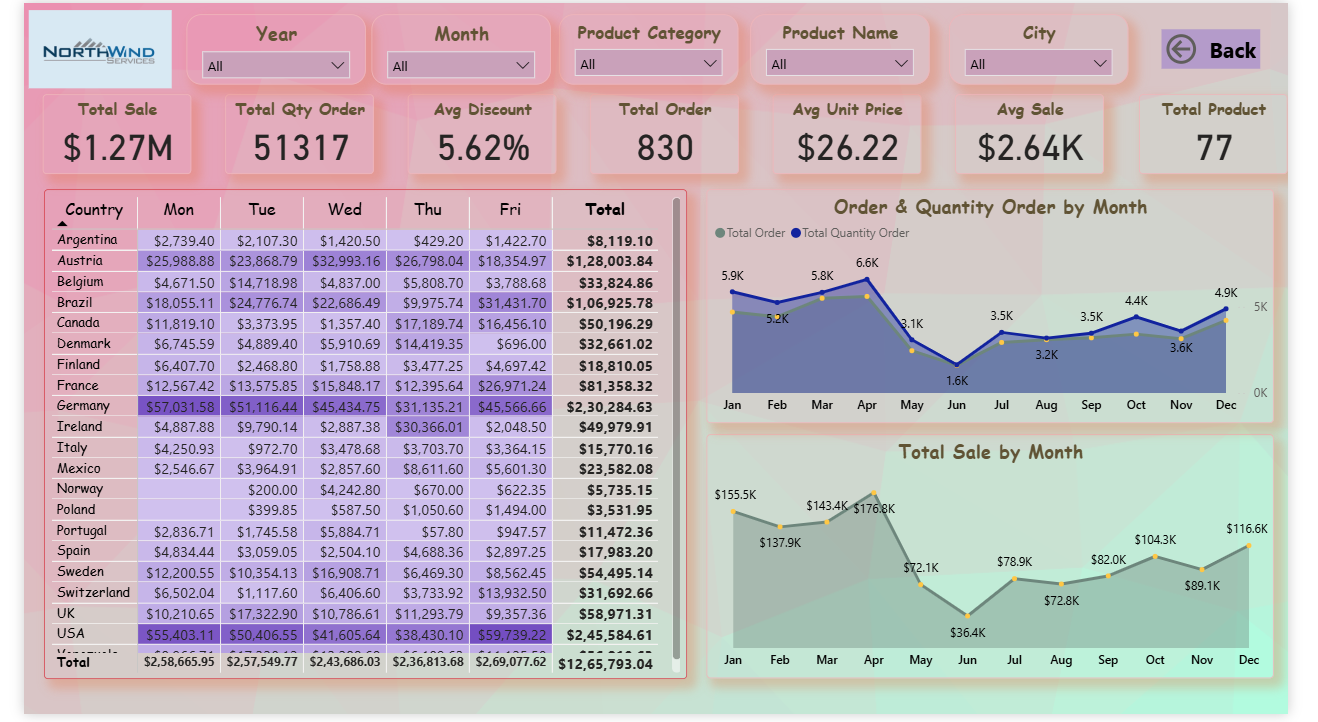

The dashboard page shown, as its layout file describes it:
{"tool":"powerbi","page":{"name":"Sales Overview","canvas":[1280,720],"ordinal":1},"visuals":[{"type":"card","title":"Total Sale","fields":{"Values":["All Measures.Total Sale"]},"box":[18.6,92.4,150,81],"z":0},{"type":"card","title":"Total Qty Order","fields":{"Values":["All Measures.Total Quantity Order"]},"box":[203.6,92.4,150,81],"z":1000},{"type":"card","title":"Total Order","fields":{"Values":["All Measures.Total Order"]},"box":[573.6,92.4,150,81],"z":2000},{"type":"card","title":"Avg Discount","fields":{"Values":["All Measures.Avg Discount"]},"box":[388.6,92.4,150,81],"z":3000},{"type":"card","title":"Avg Unit Price","fields":{"Values":["All Measures.Avg Unit Price"]},"box":[758.6,92.4,150,81],"z":4000},{"type":"areaChart","title":"Total Sale by Month ","fields":{"Category":["orders.Month Name"],"Y":["All Measures.Total Sale"]},"box":[691.4,437.1,574.3,247.1],"z":5000},{"type":"pivotTable","fields":{"Values":["All Measures.Total Sale"],"Rows":["customers.country"],"Columns":["orders.Day Name"]},"box":[20,188.6,651.4,495.7],"z":6000},{"type":"areaChart","title":"Order & Quantity Order by Month","fields":{"Y":["All Measures.Total Order"],"Category":["orders.Month Name"],"Y2":["All Measures.Total Quantity Order"]},"box":[691.4,188.6,574.3,237.1],"z":7000},{"type":"slicer","title":"Year","fields":{"Values":["orders.Order_Year"]},"box":[164.3,11.4,181.4,71.4],"z":8000},{"type":"image","box":[0,0,154.3,92.9],"z":9000},{"type":"slicer","title":"Product Category","fields":{"Values":["categories.categoryName"]},"box":[541.4,11.4,181.4,71.4],"z":10000},{"type":"slicer","title":"Month","fields":{"Values":["orders.Month Name"]},"box":[351.4,11.4,181.4,71.4],"z":11000},{"type":"slicer","title":"Product Name","fields":{"Values":["products.productName"]},"box":[735.7,11.4,181.4,71.4],"z":12000},{"type":"slicer","title":"City","fields":{"Values":["customers.city"]},"box":[937.1,11.4,181.4,71.4],"z":13000},{"type":"card","title":"Avg Sale ","fields":{"Values":["All Measures.Avg Sale"]},"box":[943.6,92.4,150,81],"z":14000},{"type":"actionButton","box":[1151.4,27.1,100,40],"z":15000},{"type":"card","title":"Total Product","fields":{"Values":["All Measures.Total Product"]},"box":[1128.6,92.4,150,81],"z":16000}]}

Visuals, with their boxes in screenshot pixels (x1, y1, x2, y2), scaled from the page's 1280x720 canvas onto the 1318x722 screenshot:
"Total Sale" card: box(19, 93, 174, 174)
"Total Qty Order" card: box(210, 93, 364, 174)
"Total Order" card: box(591, 93, 745, 174)
"Avg Discount" card: box(400, 93, 555, 174)
"Avg Unit Price" card: box(781, 93, 936, 174)
"Total Sale by Month " areaChart: box(712, 438, 1303, 686)
pivotTable - All Measures.Total Sale x customers.country: box(21, 189, 691, 686)
"Order & Quantity Order by Month" areaChart: box(712, 189, 1303, 427)
"Year" slicer: box(169, 11, 356, 83)
image: box(0, 0, 159, 93)
"Product Category" slicer: box(557, 11, 744, 83)
"Month" slicer: box(362, 11, 549, 83)
"Product Name" slicer: box(758, 11, 944, 83)
"City" slicer: box(965, 11, 1152, 83)
"Avg Sale " card: box(972, 93, 1126, 174)
actionButton: box(1186, 27, 1289, 67)
"Total Product" card: box(1162, 93, 1317, 174)
